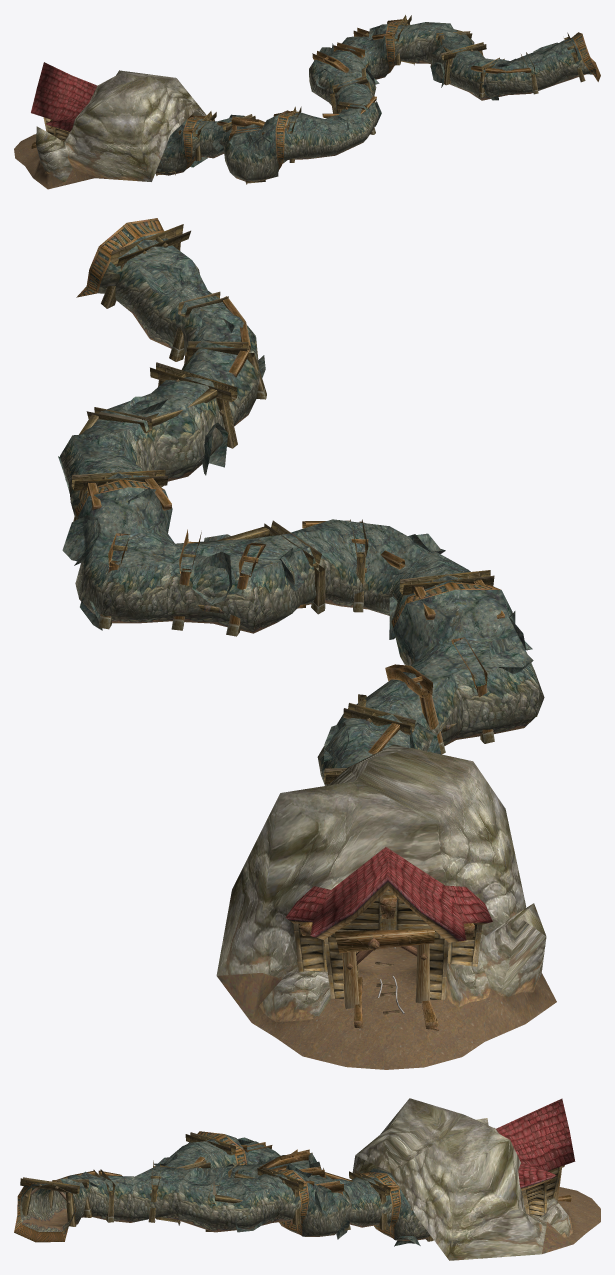
File: az_deadmines_c.obj
3 renders of one model, top to bottom at view 1: azimuth 30°, elevation 25°; view 2: azimuth 150°, elevation 25°; view 3: azimuth 270°, elevation 25°, orthographic. The views are drawn at different scales.
Parts seen in each view (by area): view 1: exterior033, exterior035, exit069, exit041, exit047, exit024, exit061, exit054, exit050, exit034, exterior032, exit075 (+17 smaller); view 2: exterior033, exterior032, exit061, exit047, exit041, exit069, exterior035, exit034, exterior037, exit050, exit030, exterior030 (+16 smaller); view 3: exterior033, exit034, exterior035, exit030, exit041, exit047, exit024, exterior032, exit075, leaving015, exit061, leaving013 (+17 smaller).
Part boxes in pixels (x1,y1,x2,y2): exterior033: (36,70,206,181); exterior035: (31,62,97,130); exit069: (210,129,306,182); exit041: (314,22,425,88); exit047: (309,29,419,109); exit024: (458,64,553,100); exit061: (212,111,310,159); exit054: (304,89,378,159); exit050: (306,85,381,135); exit034: (415,24,474,91); exterior032: (14,134,94,189); exit075: (155,129,213,175); exterior033: (216,744,546,1022); exterior032: (217,971,556,1069); exit061: (324,563,533,768); exit047: (68,460,325,633); exit041: (62,454,314,630); exit069: (317,571,544,785); exterior035: (285,847,492,939); exit034: (60,382,237,483); exterior037: (293,889,482,999); exit050: (291,519,468,575); exit030: (58,370,227,492); exterior030: (299,895,474,1030); exterior033: (351,1098,572,1260); exit034: (130,1183,280,1232); exterior035: (494,1098,575,1186); exit030: (133,1166,272,1232); exit041: (223,1152,349,1239); exit047: (272,1187,351,1236); exit024: (43,1180,133,1222); exterior032: (542,1187,600,1253); exit075: (362,1193,429,1240); leaving015: (20,1182,86,1231); exit061: (183,1134,365,1203); leaving013: (20,1177,79,1226).
Size of the model in its own units: 116 by 50.51 by 118.
Materials: 16 (16 with a texture image).
